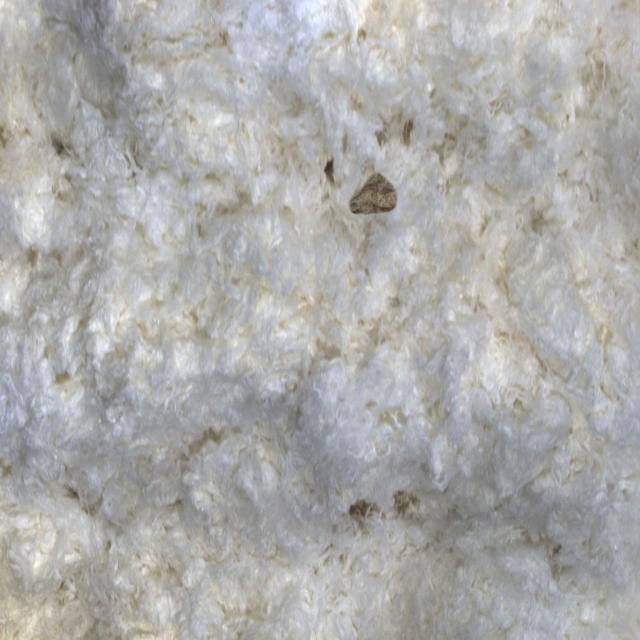dust: (328, 136, 430, 263)
